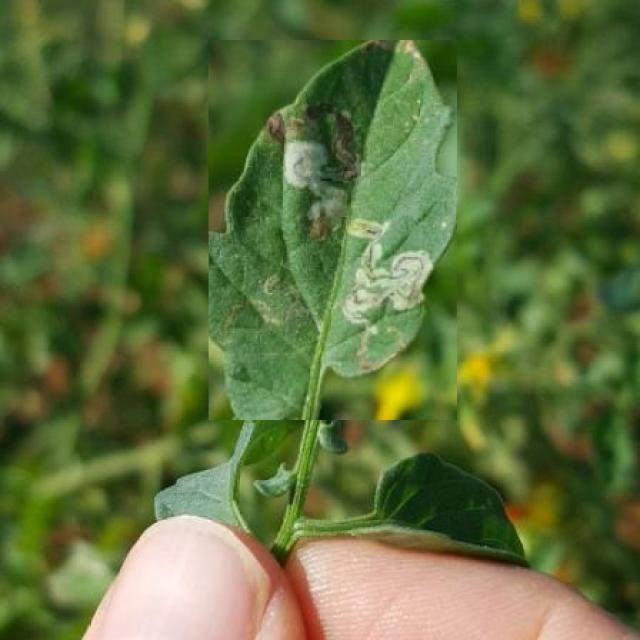Leaf Miner: (209, 41, 458, 420)
